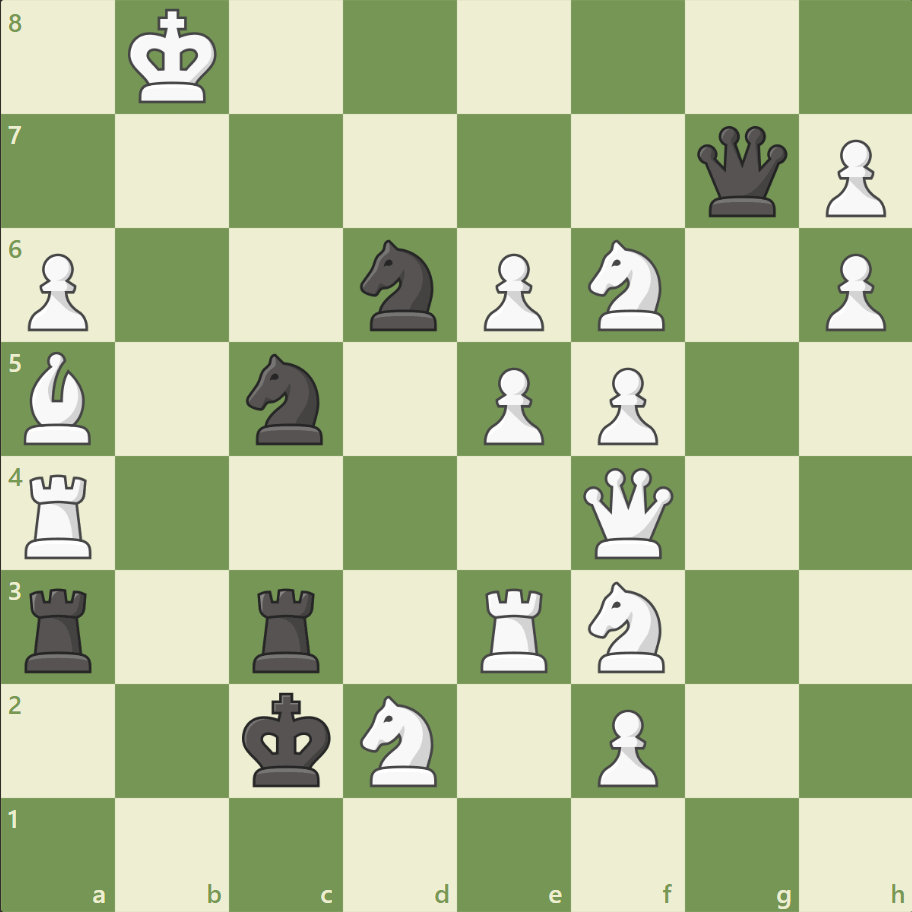B: (17, 347, 101, 449)
K: (124, 4, 224, 112)
N: (351, 688, 449, 791), (579, 234, 676, 337), (579, 575, 676, 677)
P: (20, 246, 95, 337), (474, 246, 549, 337), (474, 359, 549, 450), (815, 132, 889, 223), (815, 246, 889, 337), (588, 359, 662, 450), (588, 700, 662, 791)
Q: (578, 463, 677, 562)
R: (19, 466, 102, 563), (473, 579, 556, 676)
k: (238, 685, 338, 793)
n: (351, 234, 449, 337), (238, 348, 335, 450)
q: (691, 122, 790, 222)
r: (19, 579, 102, 676), (246, 579, 329, 676)
